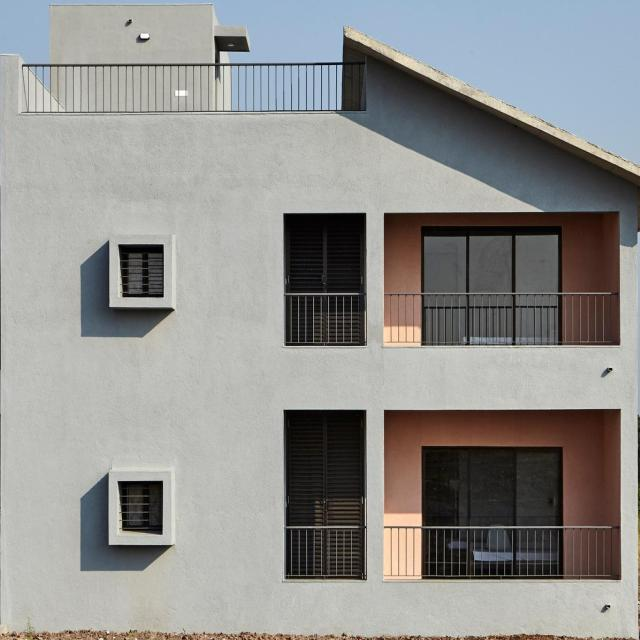railing: (23, 61, 364, 113), (382, 523, 621, 581), (384, 292, 621, 346), (283, 524, 366, 578), (284, 291, 367, 343)
window: (421, 445, 562, 525), (421, 225, 560, 291), (125, 247, 163, 293), (129, 487, 151, 526)
